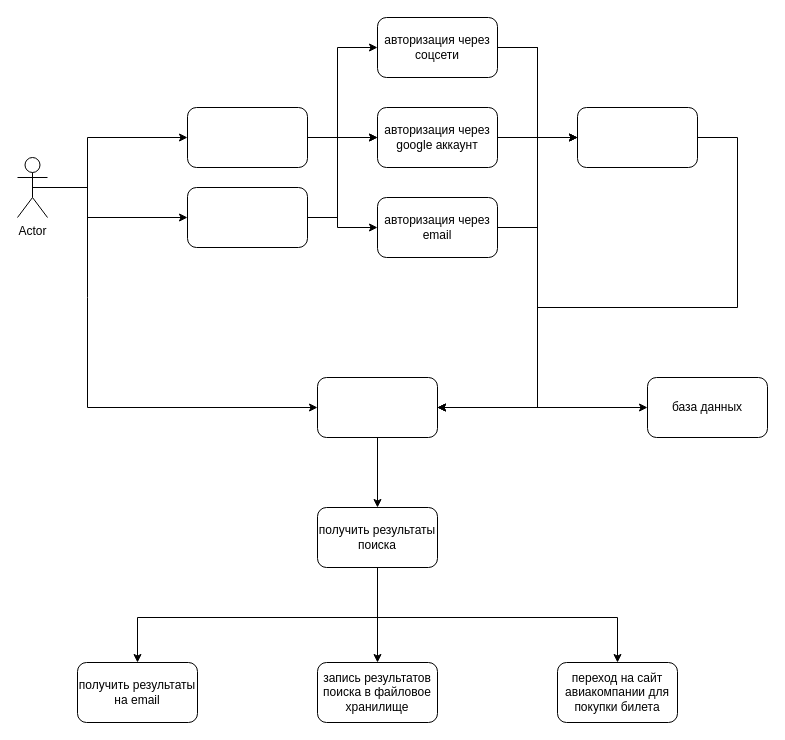
The diagram is 785 pixels wide and 740 high, and some of its shapes have lost their labels. The shapes that lost their labels are listed below. From the top down, each one's box as (x1, y1, x2, y2) in pixels, then its label:
(186, 106, 308, 168): выбор языка приложения
(576, 106, 698, 168): личный кабинет
(186, 186, 308, 248): авторизация
(316, 376, 438, 438): меню поиска
